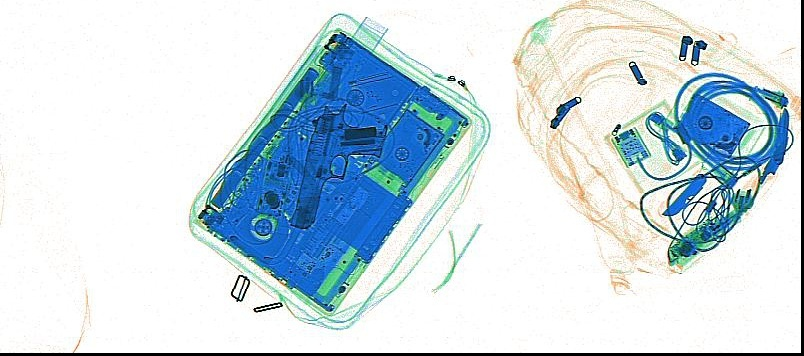knife: (657, 170, 706, 217), (756, 136, 788, 185), (772, 108, 788, 165)
